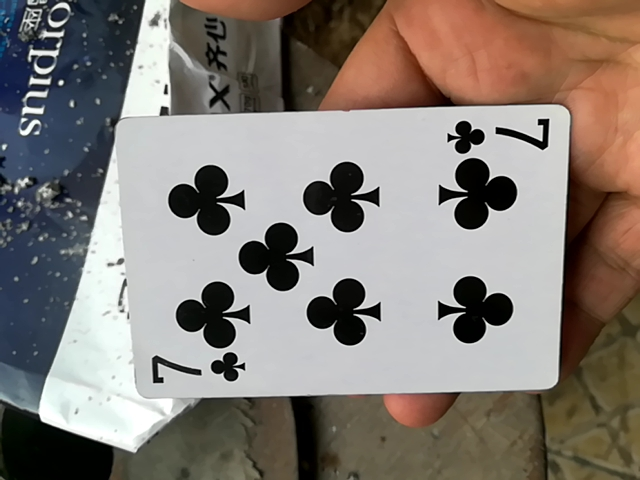mh 7: (104, 106, 564, 409)
